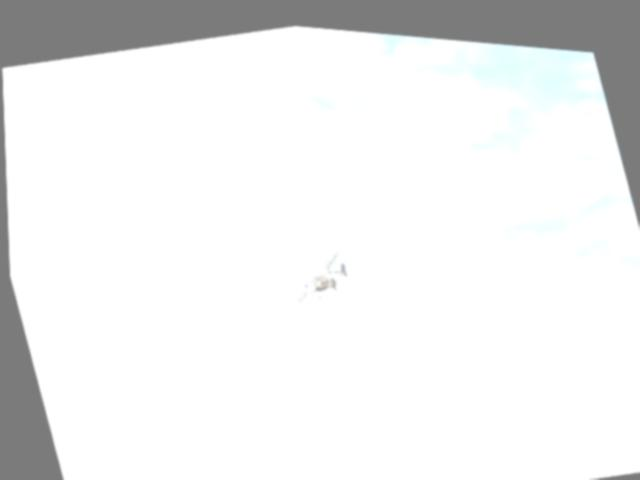uav: (275, 234, 355, 306)
